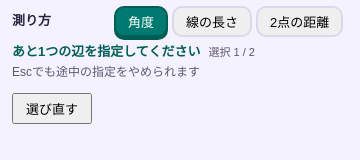
測る道具の下部パネル › 1つ目の指定と残りを示し、画面のボタンでも選び直せる
expect the text "あと1つの辺を指定してください" is shown: met, box [12,43,200,62]
expect the text "選択 1 / 2" is shown: met, box [208,45,255,61]
Click the button "選び直す": (52, 109) [12,93,92,124]
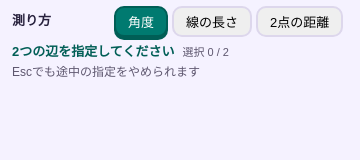
expect the text "2つの辺を指定してください" is shown: met, box [12,43,174,62]
